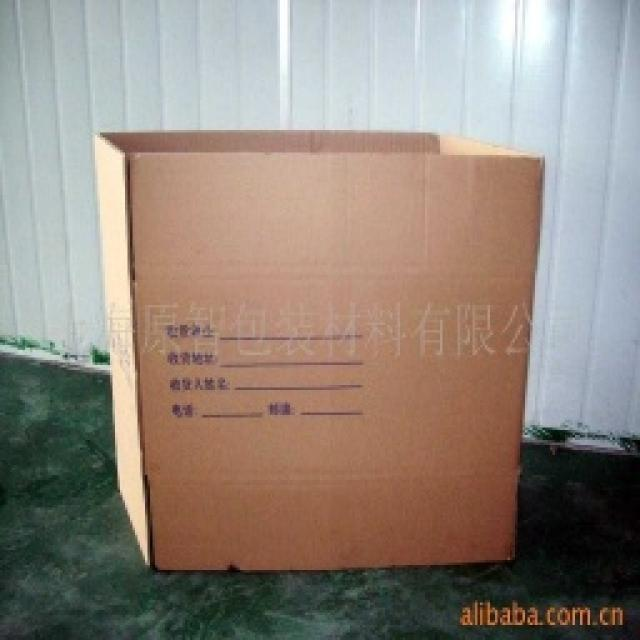box: (85, 94, 562, 587)
